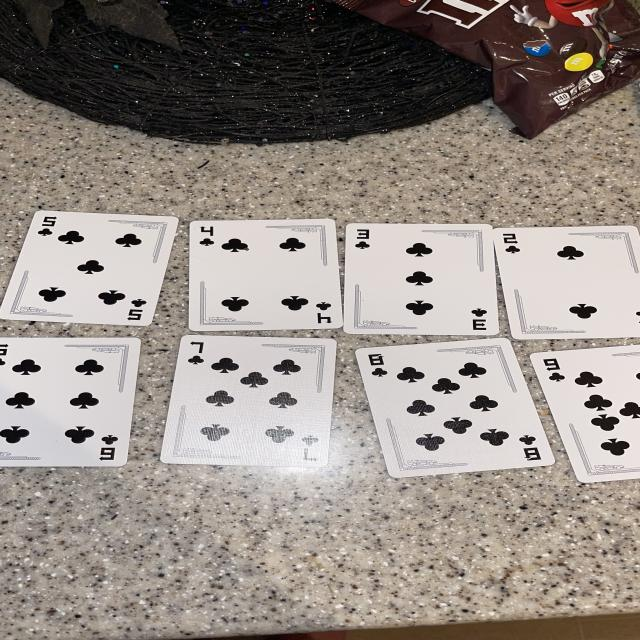2 of clubs: (493, 225, 640, 340)
3 of clubs: (344, 224, 500, 335)
4 of clubs: (189, 219, 342, 331)
5 of clubs: (0, 210, 178, 325)
6 of clubs: (0, 338, 140, 468)
7 of clubs: (160, 335, 336, 468)
8 of clubs: (356, 338, 553, 478)
9 of clubs: (531, 345, 640, 482)
